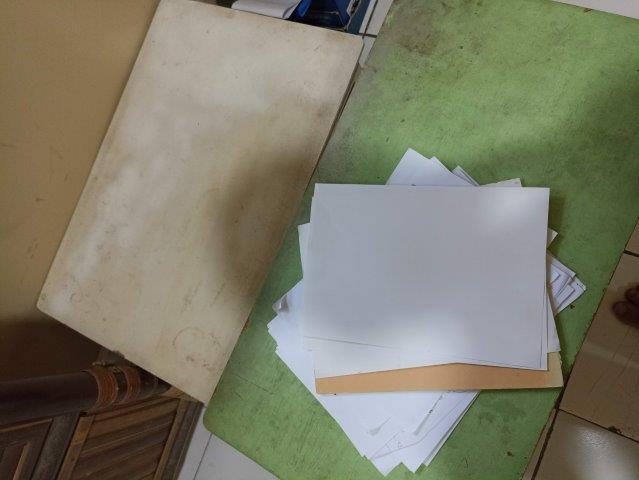kertas: (268, 148, 588, 474)
